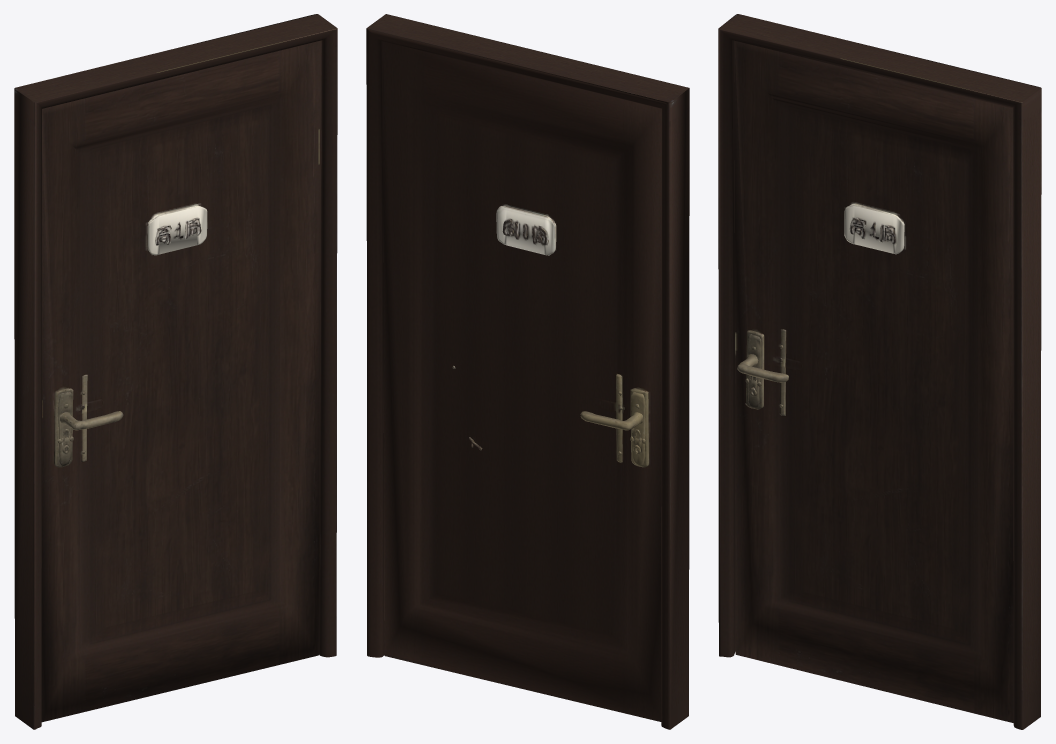
File: Meshy_AI_hotel_room_door_with__0904014945_texture.glb
3 views of the same model, side by side, from view 1: azimuth 30°, elevation 25°; view 2: azimuth 150°, elevation 25°; view 3: azimuth 330°, elevation 25° (orthographic).
Visible parts, largest first — view 1: mesh_node; view 2: mesh_node; view 3: mesh_node.
Part boxes in pixels (x1,y1,x2,y2): mesh_node: (14, 14, 337, 729); mesh_node: (366, 14, 689, 729); mesh_node: (718, 14, 1041, 729).
Bounding box in the file's own units: 0.5078 × 1 × 0.1304.
Materials: 1 (1 with a texture image).
